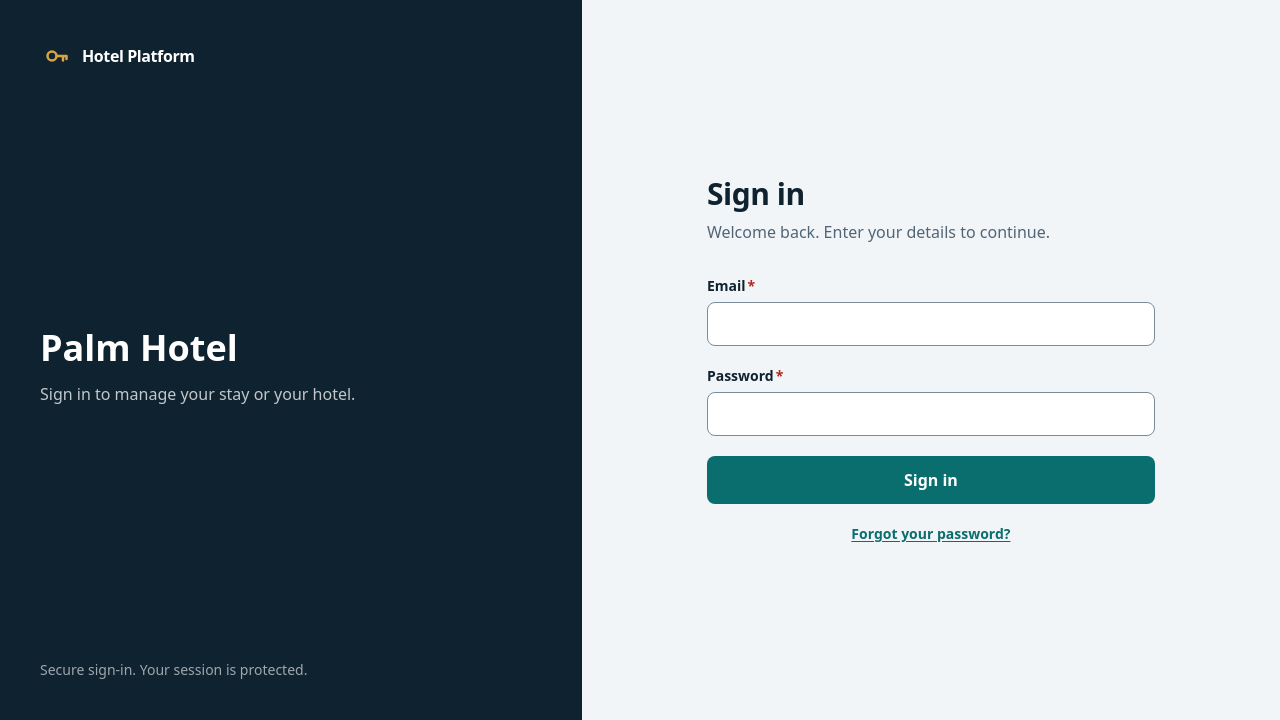
LoginPage › explains INVALID_CREDENTIALS in plain language and keeps the form usable
The width and height of the screenshot is (1280, 720).
Type "ada@palm.com" into the field labelled "Email*" at (931, 324), box [707,302,1155,346]
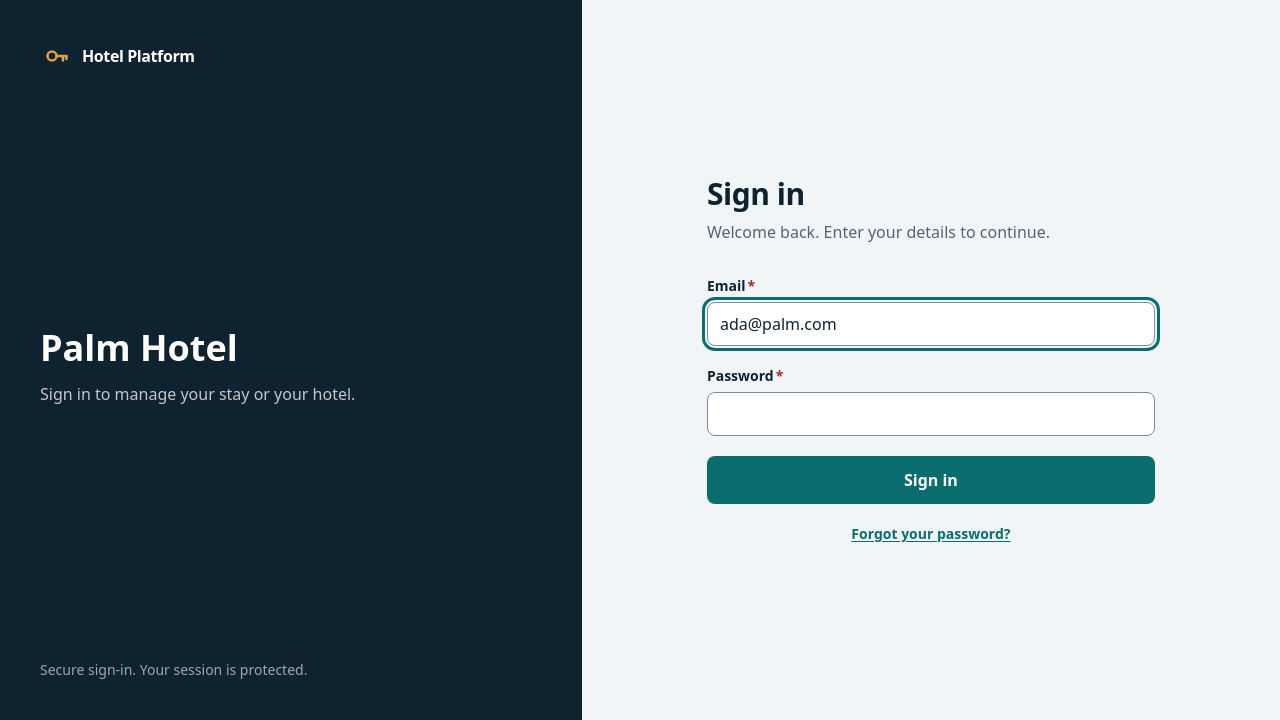
Type "whatever-123" into the password field labelled "Password*" at (931, 414), box [707,392,1155,436]
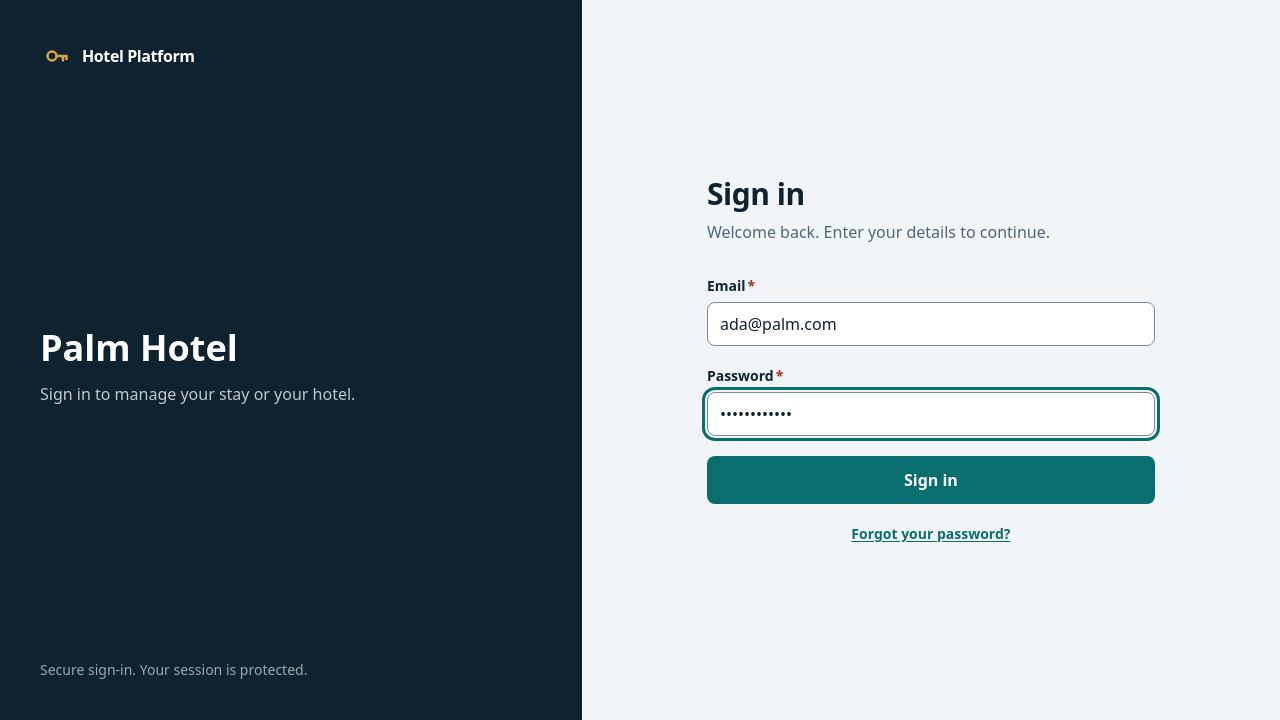
Click the button "Sign in" at (931, 480), box [707,456,1155,504]
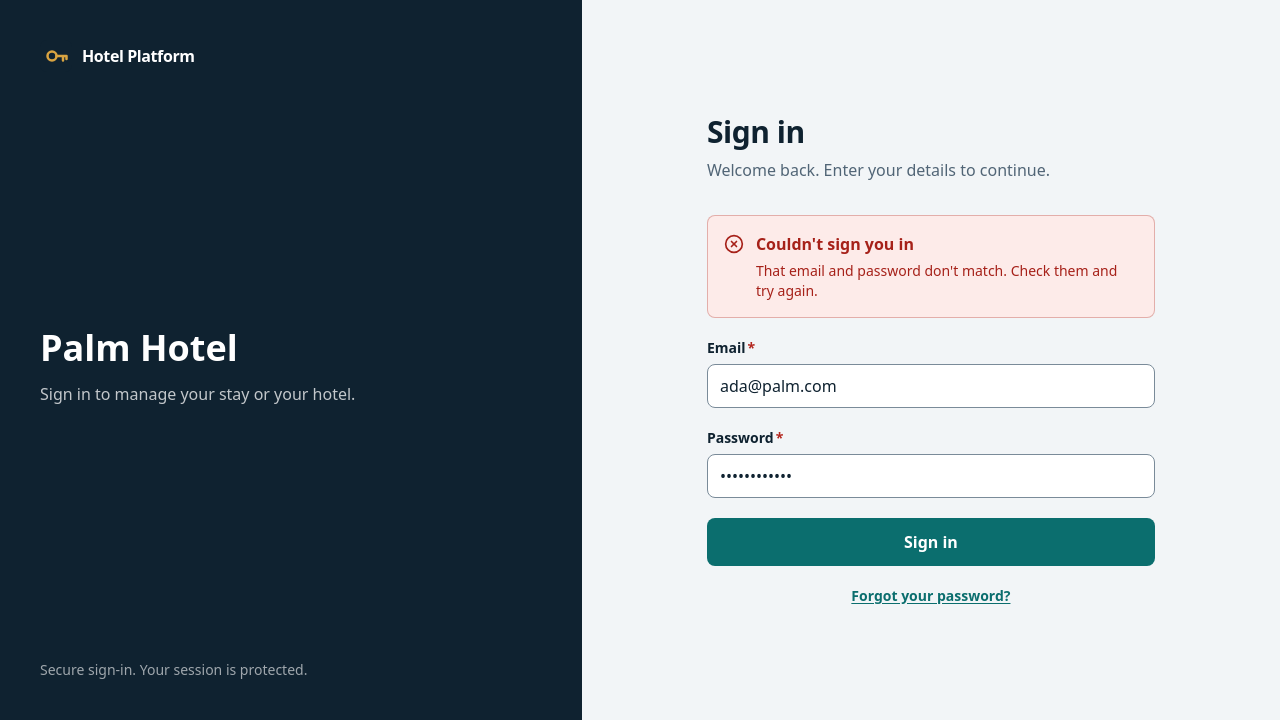
Check: the button "Sign in" is enabled, box [707,518,1155,566]
Check: the message shows "don't match", box [756,261,1117,300]
